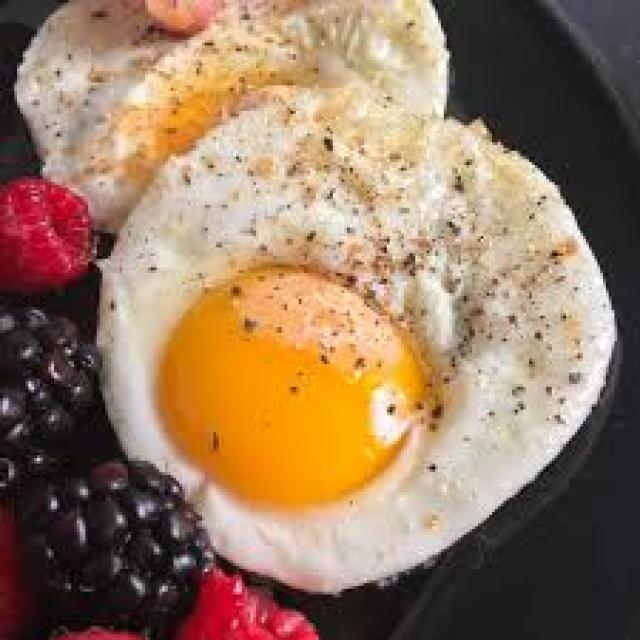Egg: (102, 90, 614, 591), (16, 0, 449, 229)
